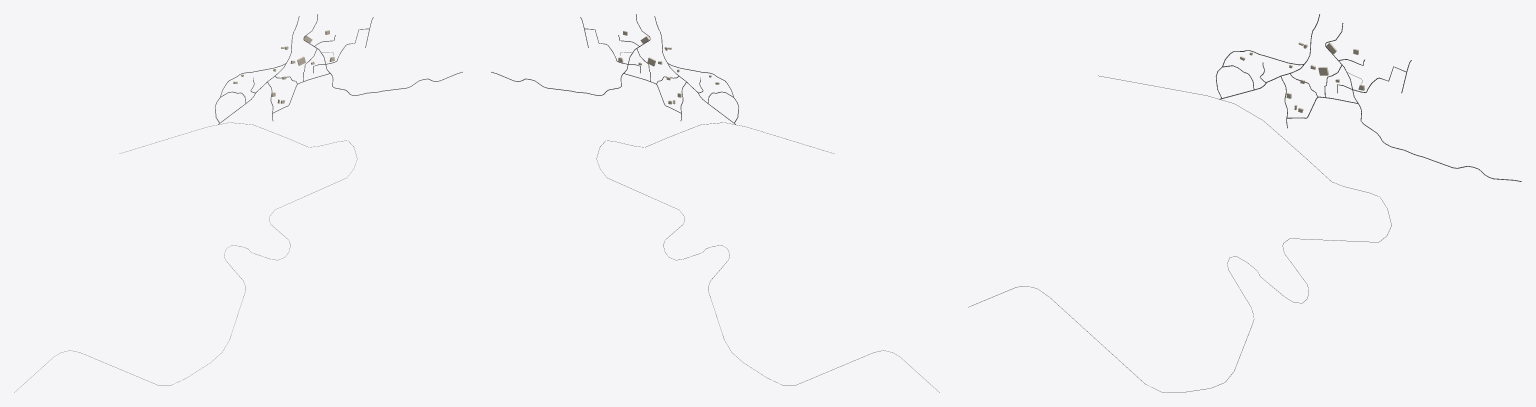
Rendered from historic-palestine-08_27_3503_3219.glb.
3 views of the same model, side by side, from view 1: azimuth 30°, elevation 25°; view 2: azimuth 150°, elevation 25°; view 3: azimuth 330°, elevation 25° (orthographic). The views are drawn at different scales.
Parts seen in each view (by area): view 1: Road Canceled security road; view 2: Road Canceled security road; view 3: Road Canceled security road.
Boxes of the visible parts, <box> form: Road Canceled security road: <box>14,122,357,392</box>; Road Canceled security road: <box>596,122,939,392</box>; Road Canceled security road: <box>968,75,1391,392</box>.
Size of the model in its own units: 2317 by 1668 by 9.09.
